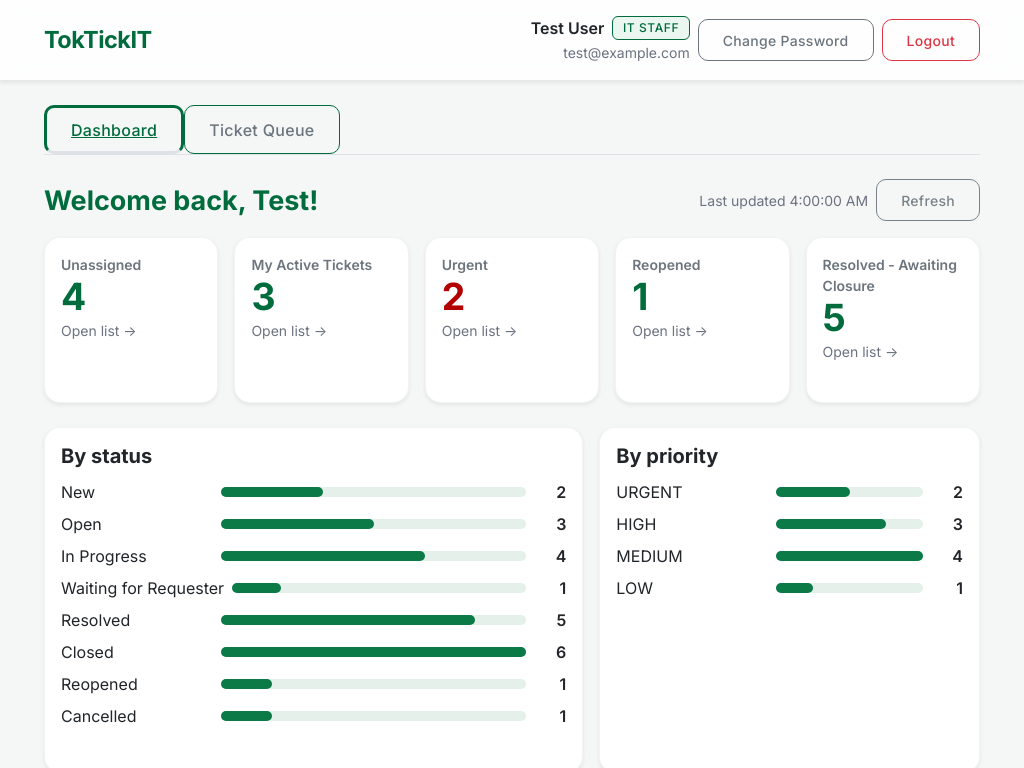
UI-25: role navigation, landing page and dashboard drill-down (Issue #33) › a breakdown row and the Urgent card open the queue with their priority and status
What coordinates should you click on to do the following:
click the link with aria-label "Urgent: 2"
I would click on:
 (512, 320)
Its box is [425,237,599,403].
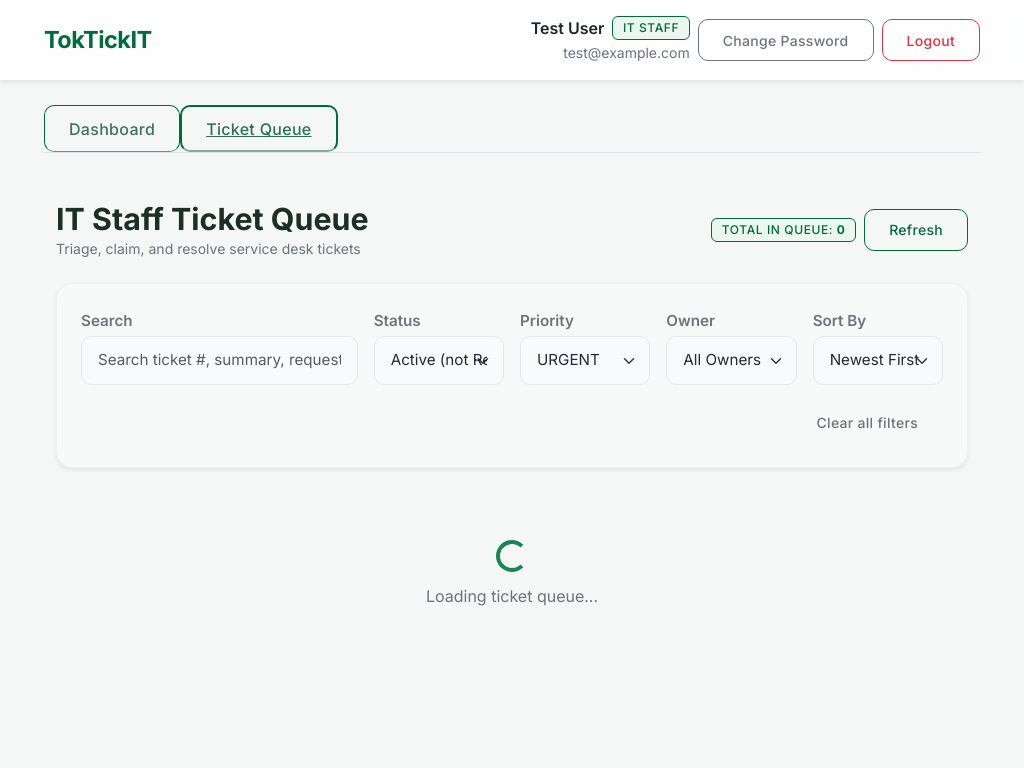
What coordinates should you click on to do the following:
click the button "Dashboard"
I would click on:
 (112, 129)
Its box is [44,105,180,152].
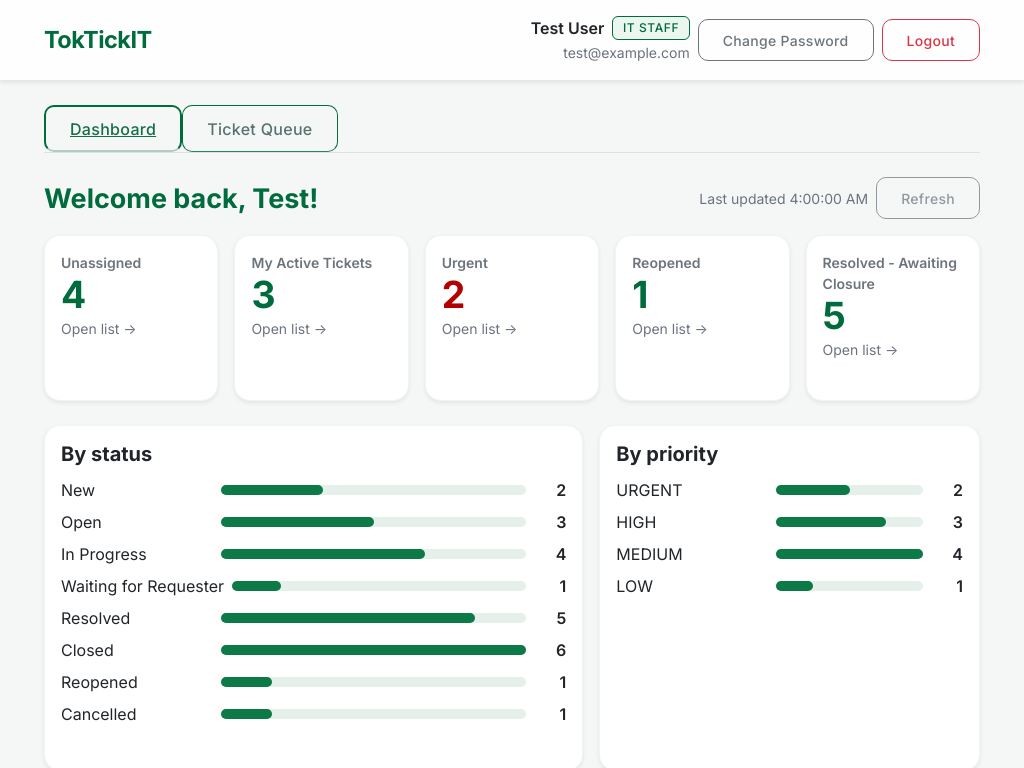
What coordinates should you click on to do the following:
click the link with aria-label "In Progress: 4"
I would click on:
 (314, 554)
Its box is [61,538,566,570].
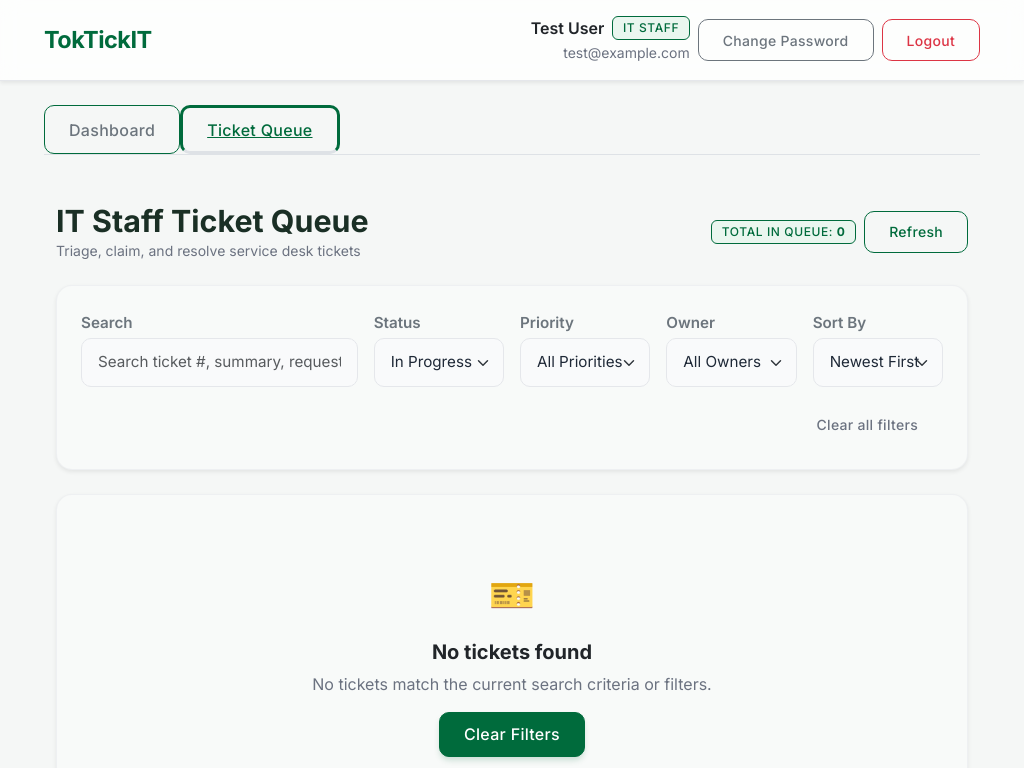
Expected: the dropdown labelled "Status" shows "In Progress", [374,338,504,387]
Expected: the dropdown labelled "Priority" shows "All Priorities", [520,338,650,387]
